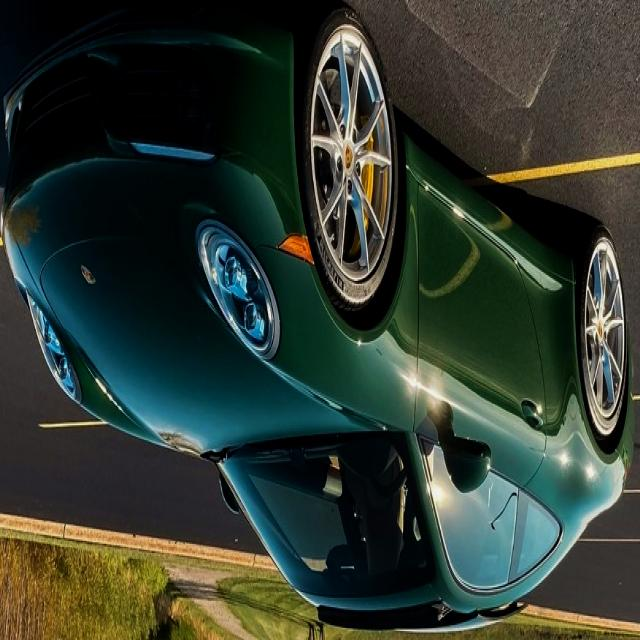green: (0, 0, 639, 634)
